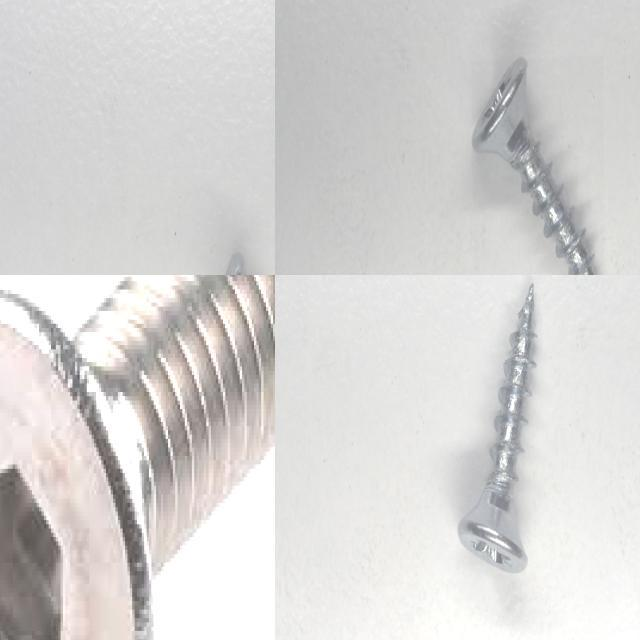Screw: (0, 275, 275, 640), (472, 57, 596, 275), (458, 283, 536, 572)
